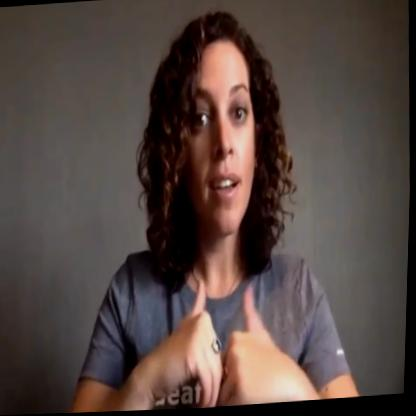HowAreYou: (148, 266, 302, 411)
